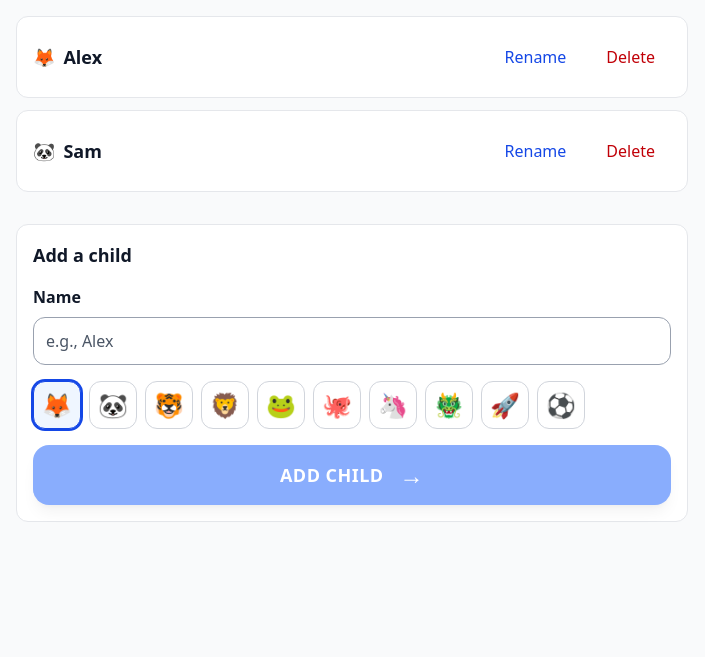
ManageChildren › keeps the child when the deletion is cancelled
Click the button with aria-label "Delete Sam".
click(631, 151)  # box [590,127,671,175]
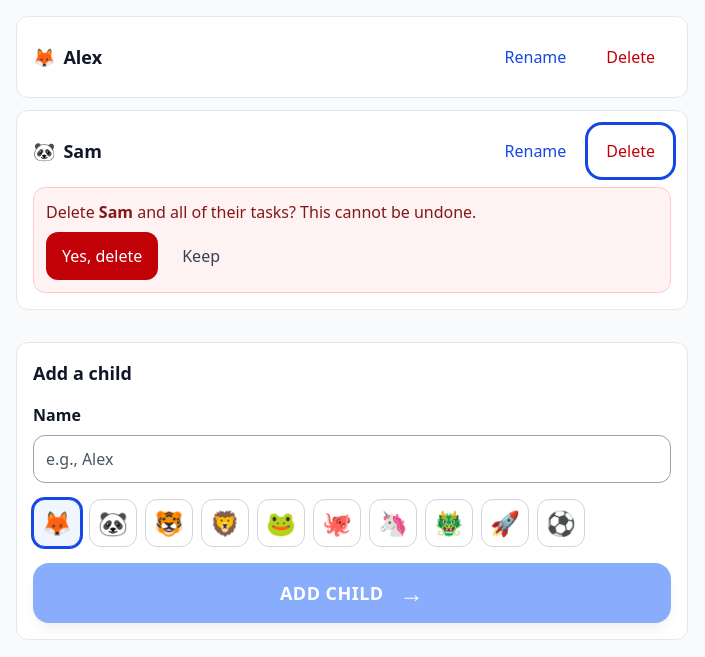
Click the button "Keep".
click(201, 256)  # box [166,232,236,280]
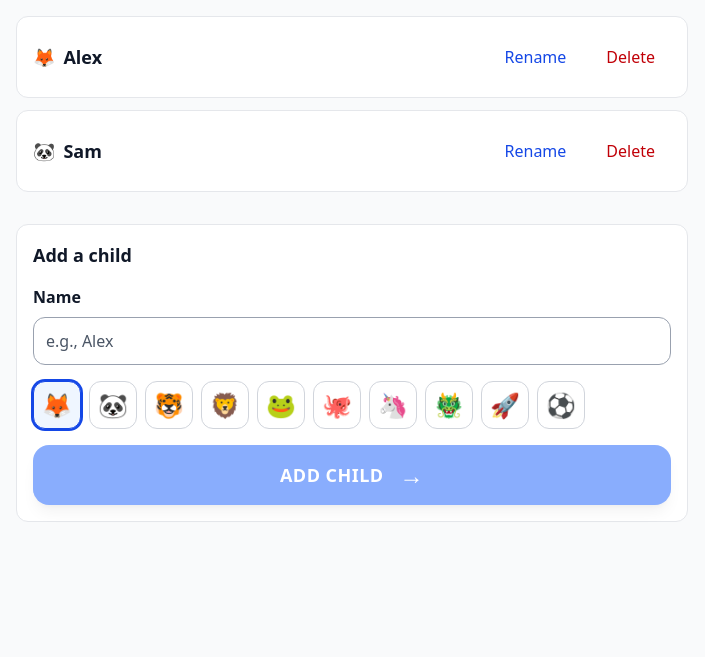
Check: the message "Delete Sam and all of their tasks? This cannot be undone. Yes, delete Keep" is gone
